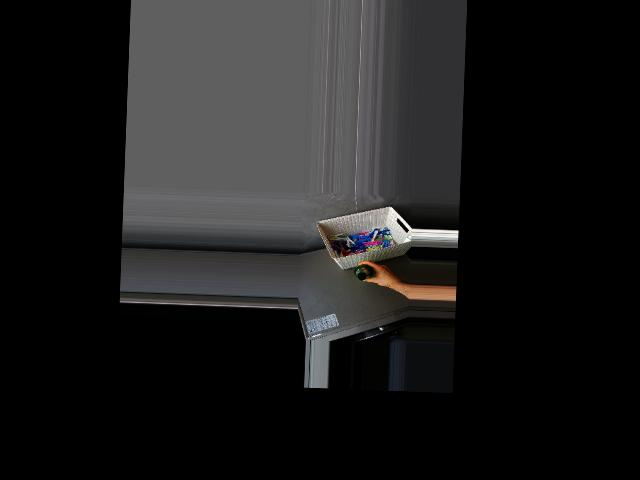beer: (353, 264, 374, 281)
